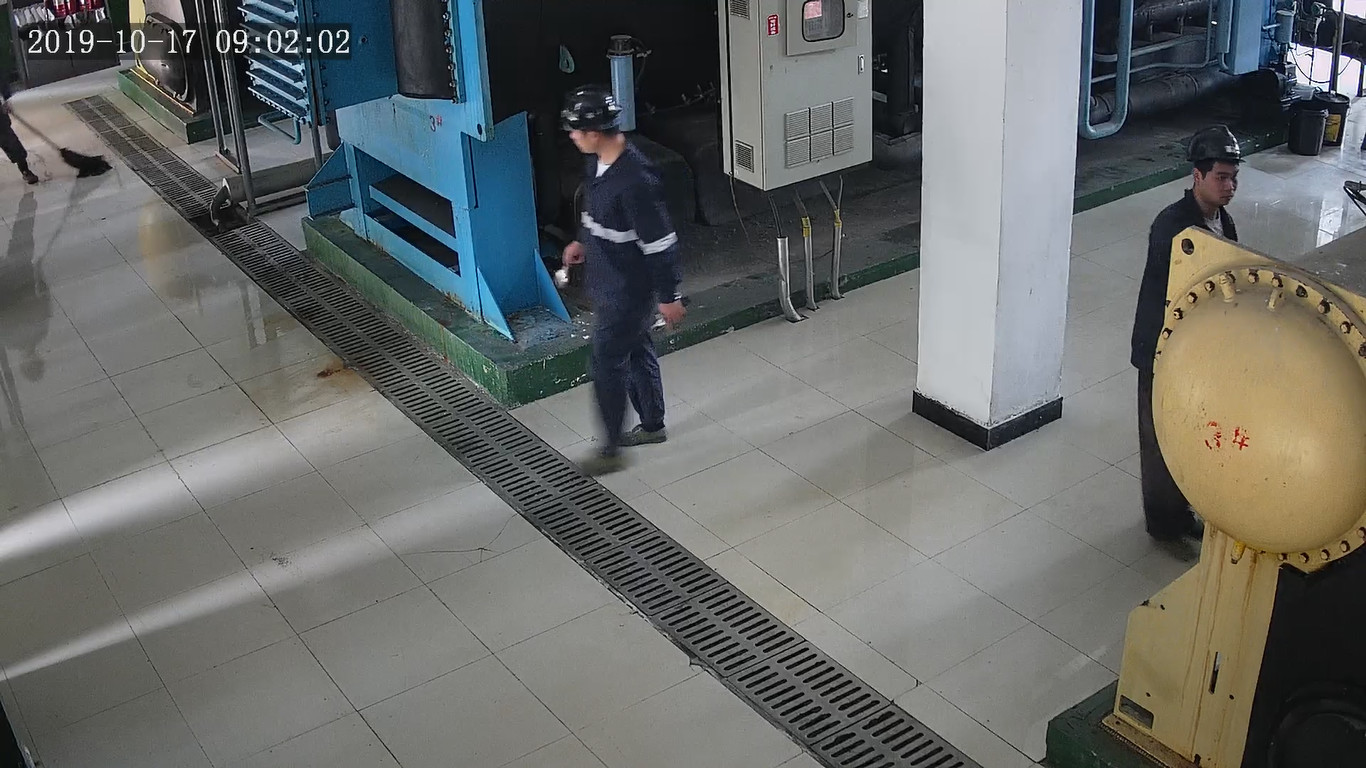helmet: (558, 83, 622, 130), (1186, 123, 1246, 163)
